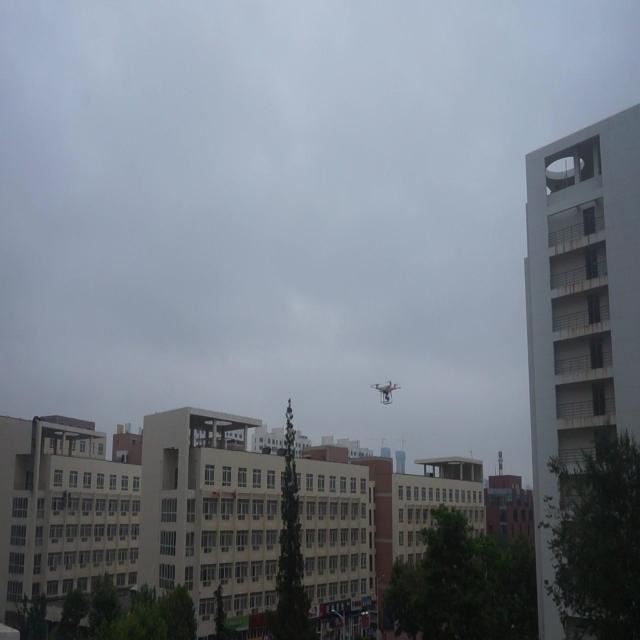drone: (370, 374, 402, 406)
